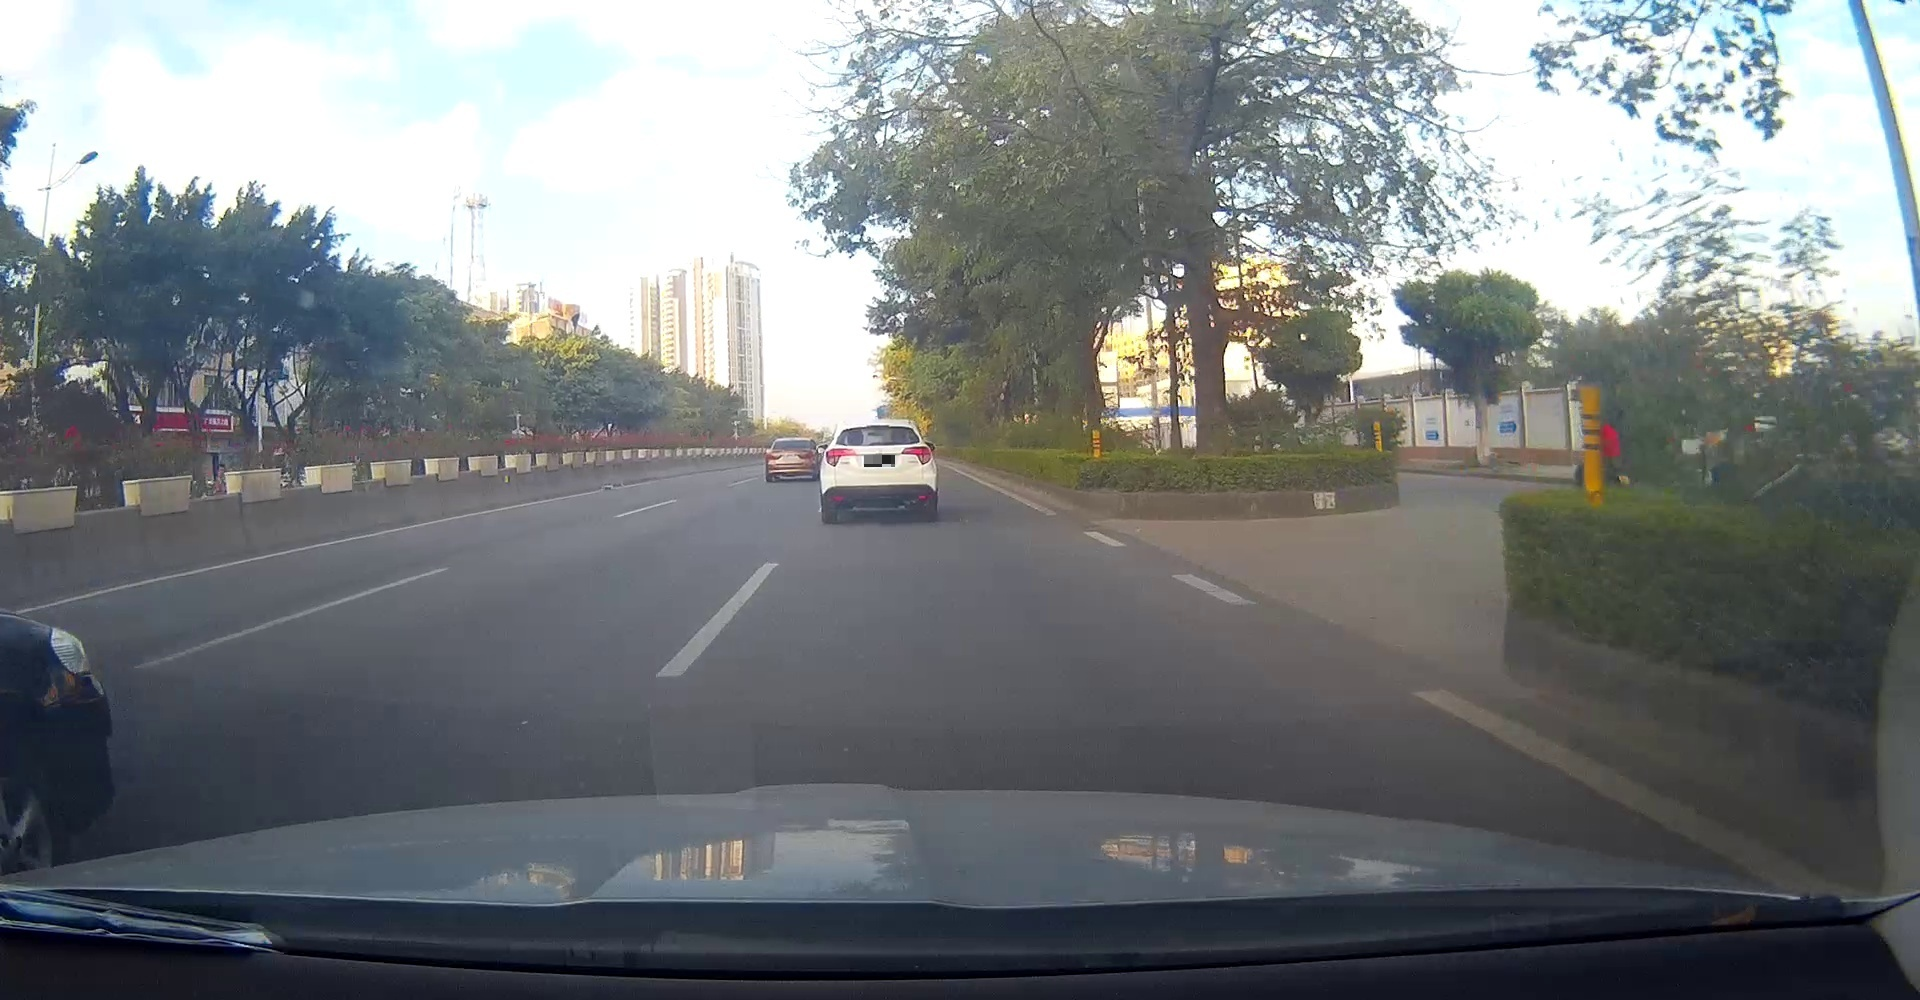L_light: (825, 448, 857, 466), (764, 454, 777, 461)
R_light: (902, 445, 933, 464), (797, 451, 813, 459)
T_light: (866, 425, 888, 428), (789, 440, 797, 442)
day-no: (819, 421, 936, 523), (764, 437, 818, 482)
plate_1: (863, 456, 895, 467)
